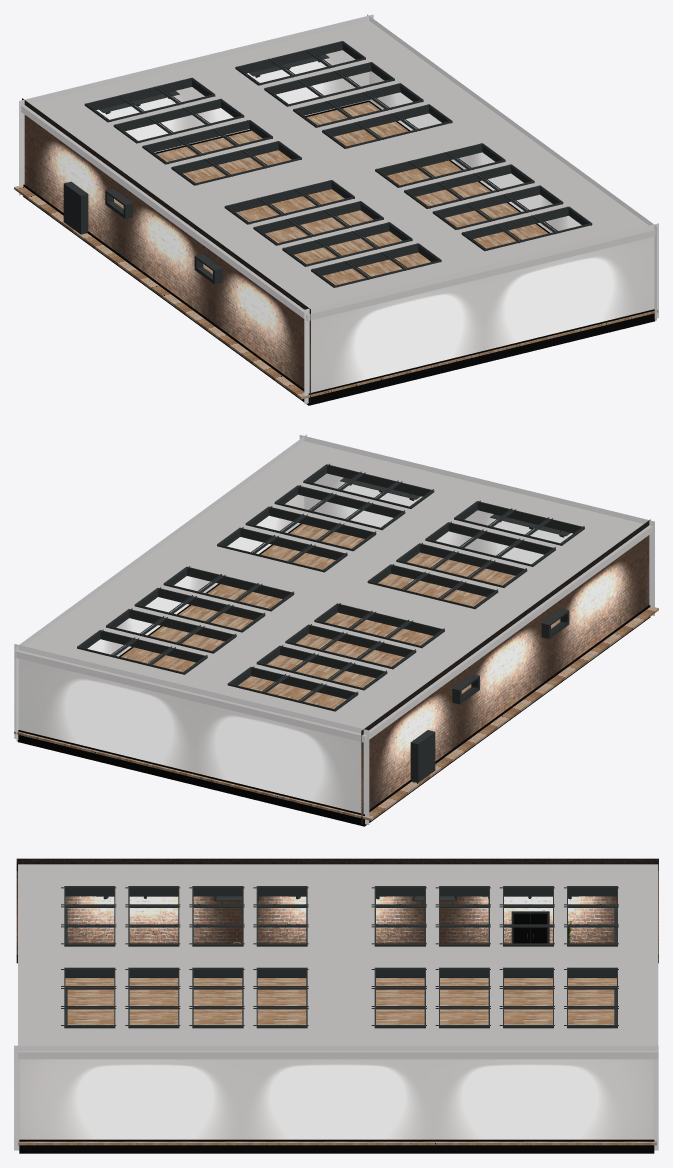
File: artgallery_042122.glb
3 views of the same model, one above another, from view 1: azimuth 30°, elevation 25°; view 2: azimuth 150°, elevation 25°; view 3: azimuth 270°, elevation 25° (orthographic). The views are drawn at different scales.
Parts seen in each view (by area): view 1: Ceiling, Plane, Plane.003, Floor, Cube.001, Cube.003, Cube.004, Cube.002, Plane.001, Wall trim, Plane.002, Door trim; view 2: Ceiling, Plane.001, Plane.003, Floor, Cube.002, Cube.001, Cube.003, Cube.004, Plane, Wall trim, Plane.002, Door trim; view 3: Ceiling, Plane.002, Plane.003, Floor, Wall trim, Cube.002, Cube.004, Cube.001, Cube.003, Cube.
Part boxes in pixels (left/top/right/bottom): Ceiling: left=21, top=21, right=657, bottom=321; Plane: left=304, top=223, right=658, bottom=404; Plane.003: left=22, top=98, right=310, bottom=403; Floor: left=14, top=102, right=658, bottom=399; Cube.001: left=84, top=77, right=301, bottom=185; Cube.003: left=235, top=41, right=452, bottom=148; Cube.004: left=375, top=143, right=592, bottom=251; Cube.002: left=224, top=180, right=441, bottom=287; Plane.001: left=19, top=14, right=373, bottom=195; Wall trim: left=23, top=100, right=655, bottom=405; Plane.002: left=367, top=14, right=656, bottom=320; Door trim: left=63, top=181, right=88, bottom=234; Ceiling: left=14, top=441, right=652, bottom=742; Plane.001: left=14, top=644, right=369, bottom=824; Plane.003: left=361, top=519, right=650, bottom=824; Floor: left=14, top=524, right=658, bottom=820; Cube.002: left=367, top=500, right=584, bottom=609; Cube.001: left=227, top=603, right=444, bottom=711; Cube.003: left=77, top=566, right=294, bottom=674; Cube.004: left=217, top=463, right=434, bottom=572; Plane: left=299, top=435, right=654, bottom=615; Wall trim: left=17, top=523, right=650, bottom=826; Plane.002: left=16, top=434, right=306, bottom=740; Door trim: left=410, top=730, right=435, bottom=782; Ceiling: left=18, top=864, right=658, bottom=1059; Plane.002: left=14, top=1045, right=658, bottom=1150; Plane.003: left=16, top=858, right=658, bottom=963; Floor: left=18, top=978, right=656, bottom=1145; Wall trim: left=19, top=1139, right=654, bottom=1153; Cube.002: left=61, top=886, right=308, bottom=946; Cube.004: left=61, top=967, right=308, bottom=1028; Cube.001: left=371, top=886, right=618, bottom=946; Cube.003: left=371, top=967, right=618, bottom=1028; Cube: left=513, top=913, right=547, bottom=943.
Size of the model in its own units: 25.1 by 6.49 by 35.22.
14 materials, 6 textured.
